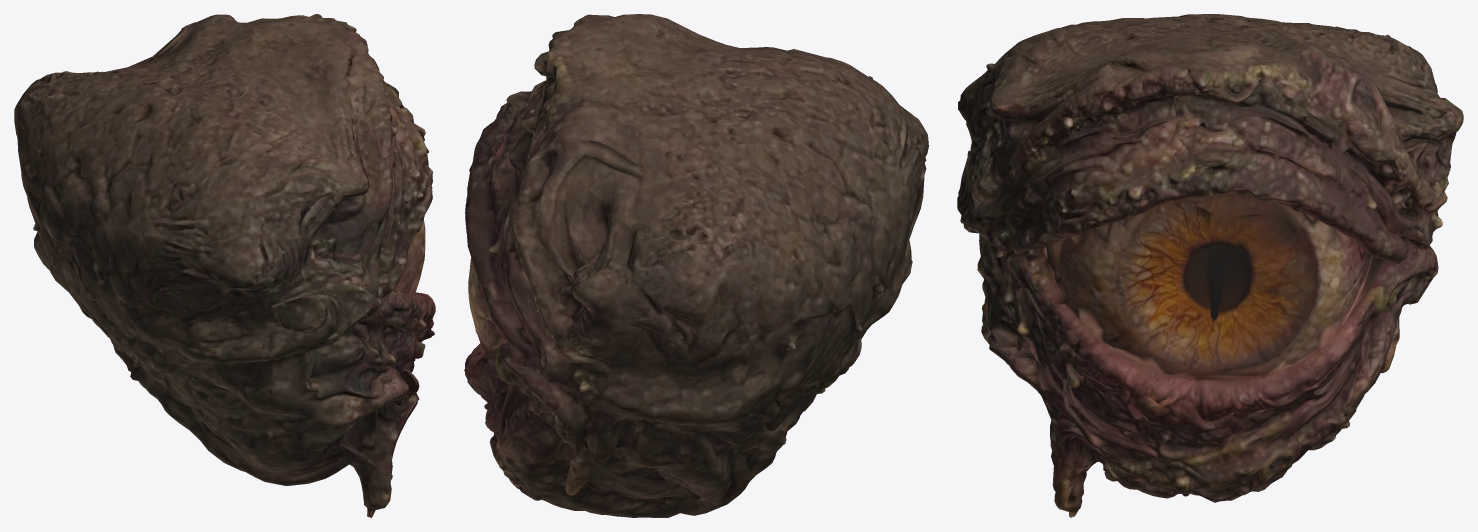
Rendered from abyss-eye.lod1.glb.
The picture shows the model from 3 angles, left to right: view 1: azimuth 30°, elevation 25°; view 2: azimuth 150°, elevation 25°; view 3: azimuth 270°, elevation 25°; orthographic projection. The views are drawn at different scales.
Parts seen in each view (by area): view 1: tripo_node_ebe158ba-29e4-48fc-a5ad-1eb4d9f2ba26; view 2: tripo_node_ebe158ba-29e4-48fc-a5ad-1eb4d9f2ba26; view 3: tripo_node_ebe158ba-29e4-48fc-a5ad-1eb4d9f2ba26.
Boxes of the visible parts, bbox=[...] form: tripo_node_ebe158ba-29e4-48fc-a5ad-1eb4d9f2ba26: bbox=[14, 14, 435, 517]; tripo_node_ebe158ba-29e4-48fc-a5ad-1eb4d9f2ba26: bbox=[464, 14, 928, 517]; tripo_node_ebe158ba-29e4-48fc-a5ad-1eb4d9f2ba26: bbox=[957, 14, 1463, 517].
Size of the model in its own units: 0.7647 by 0.9816 by 0.9661.
1 material, 1 textured.
